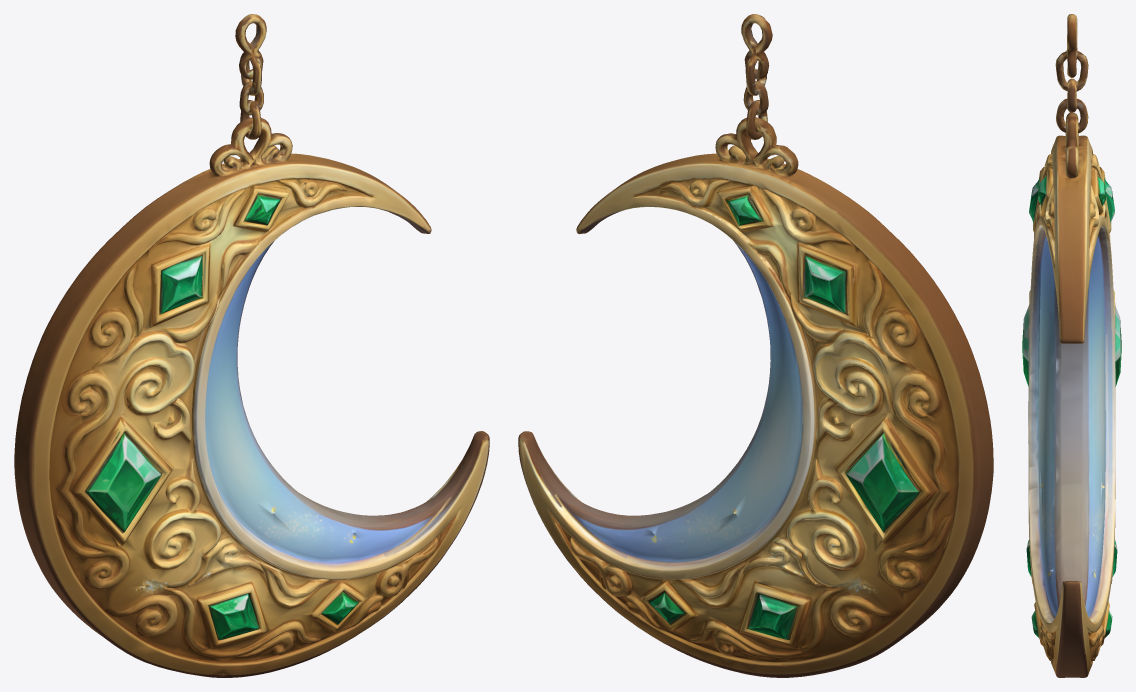
Rendered from moon_orb.glb.
3 renders of one model, left to right at view 1: azimuth 30°, elevation 25°; view 2: azimuth 150°, elevation 25°; view 3: azimuth 270°, elevation 25°, orthographic. The views are drawn at different scales.
Parts seen in each view (by area): view 1: node_0; view 2: node_0; view 3: node_0.
Boxes of the visible parts, bbox=[...] form: node_0: bbox=[14, 14, 489, 677]; node_0: bbox=[518, 14, 993, 677]; node_0: bbox=[1022, 14, 1121, 677].
Bounding box in the file's own units: 0.8906 × 1.2 × 0.1716.
1 material, 1 textured.
